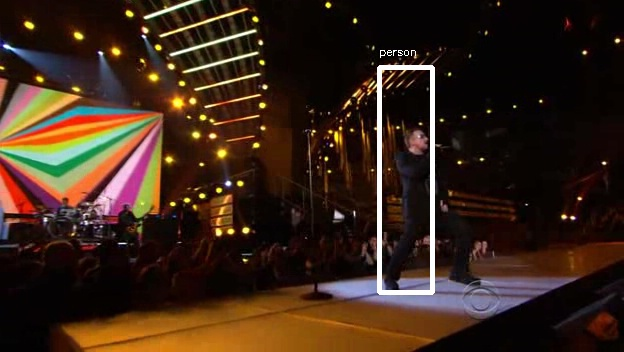person: (395, 132, 456, 240), (392, 132, 453, 240), (398, 132, 459, 240), (395, 129, 456, 237), (395, 135, 456, 243)
target_negative: (6, 75, 434, 340), (223, 24, 544, 104), (257, 15, 359, 220), (29, 82, 160, 198), (494, 130, 580, 152), (506, 272, 511, 302)
